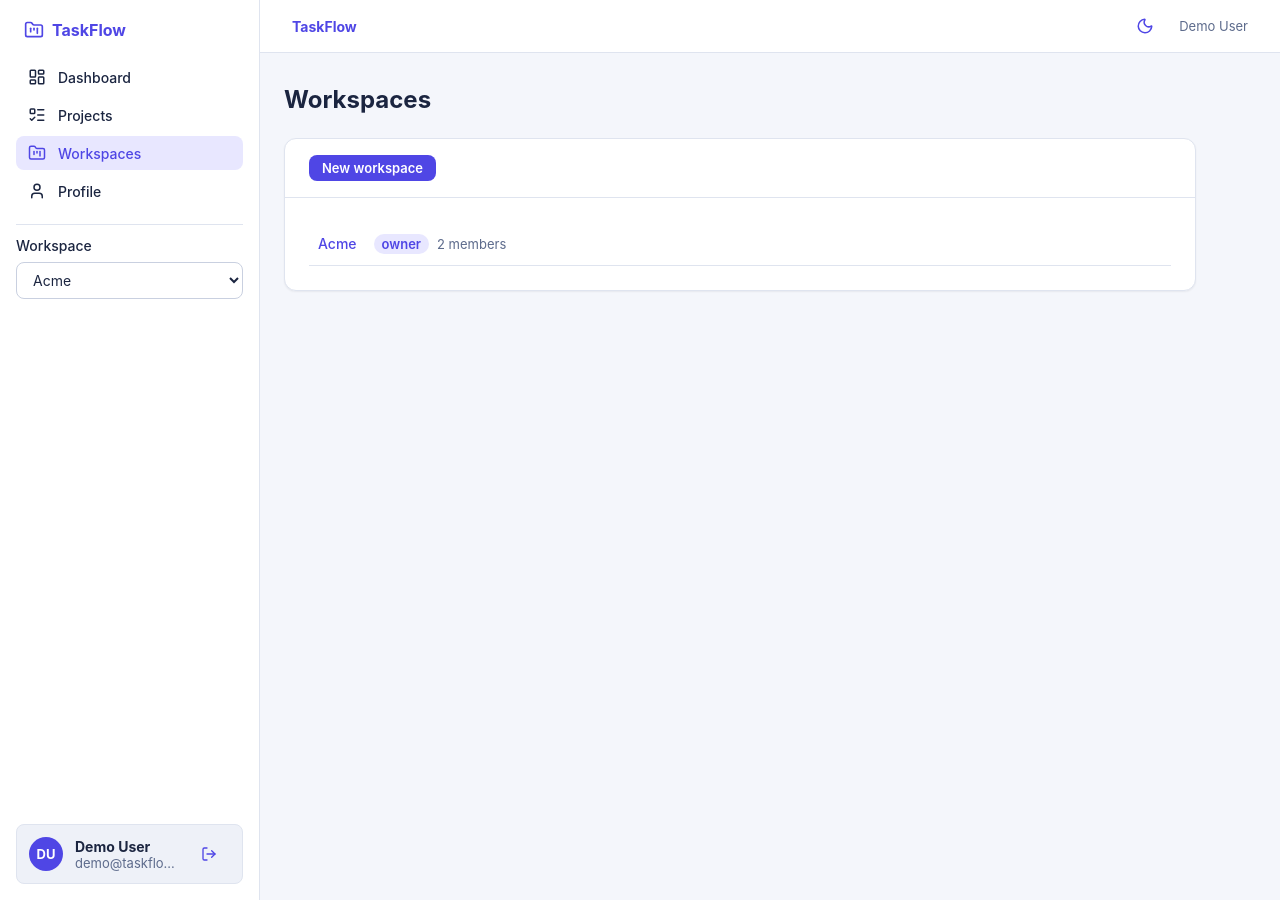
Test: action-a11y — "Member remove action names the member" (@w2) › Remove button in the workspace drawer names the member
Click the button "Acme" at (337, 244), box [309,230,366,257]
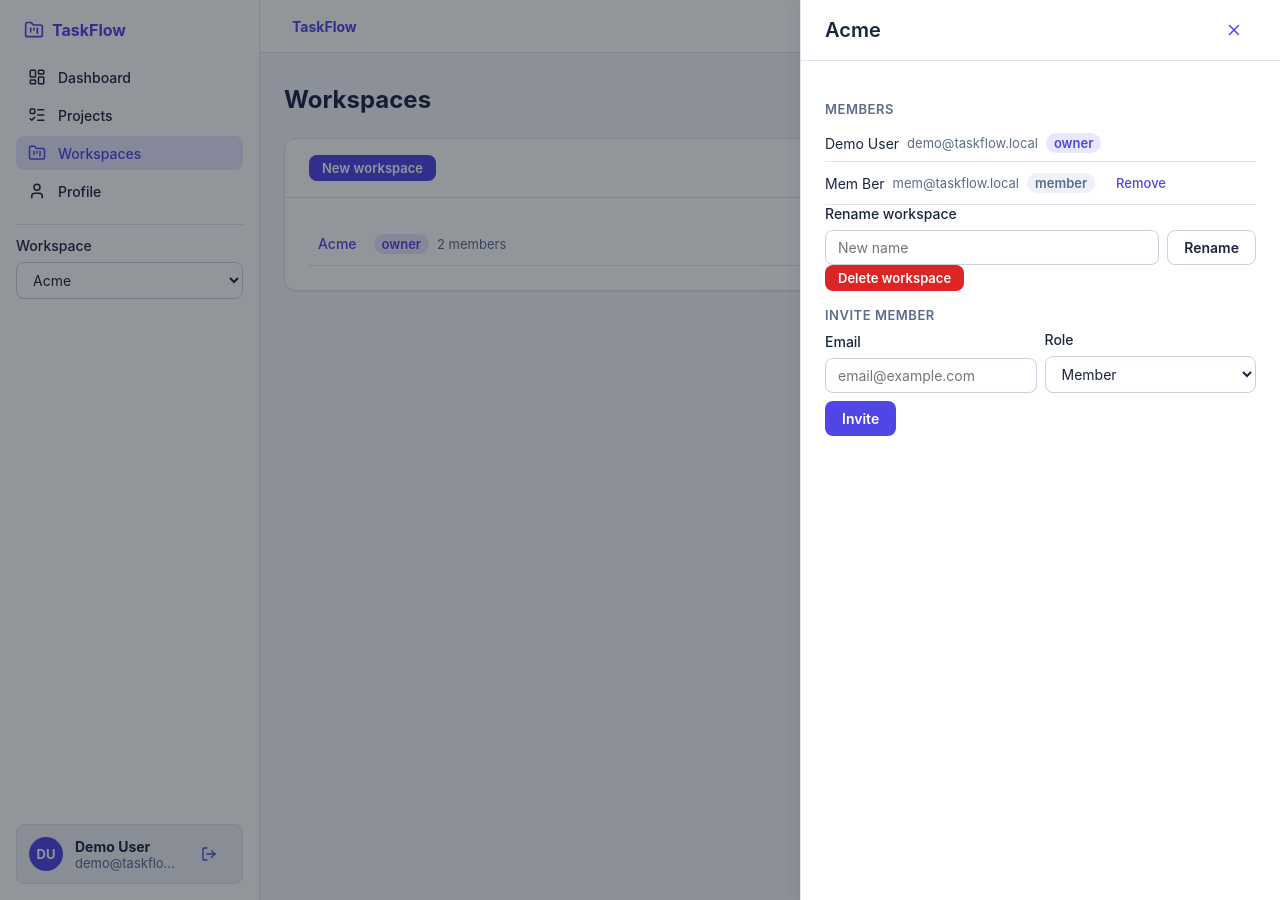
Expected: the dialog is shown, [800,0,1279,899]
Expected: the button with aria-label "Remove Mem Ber" is shown, [1103,170,1179,196]
